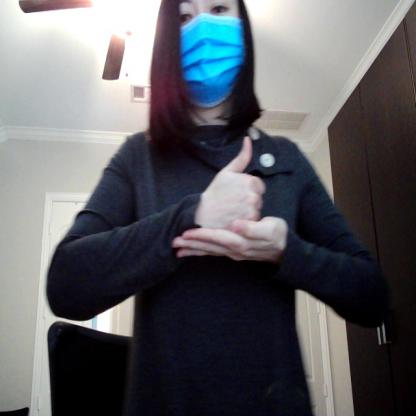help: (170, 134, 294, 270)
